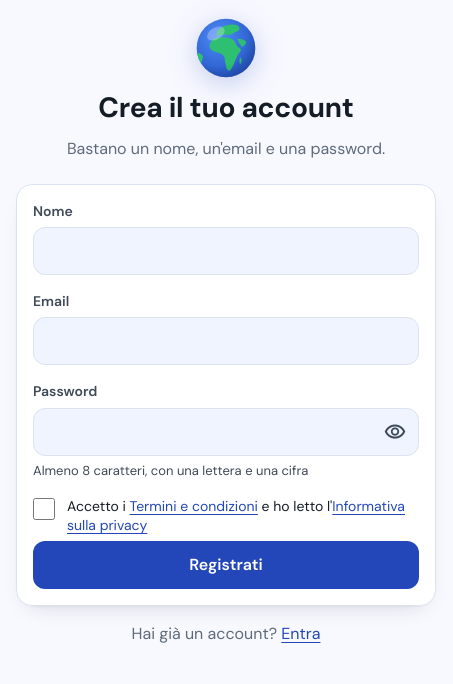
Test: senza la spunta non parte niente e il messaggio è legato alla casella (D-73)
Type "Ada" into the field labelled "Nome" at (226, 251), box [33,227,419,275]
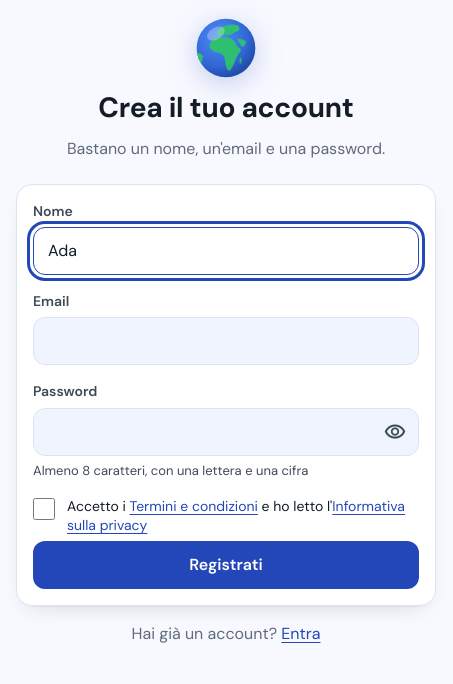
Type "ada@e.it" into the field labelled "Email" at (226, 341), box [33,317,419,365]
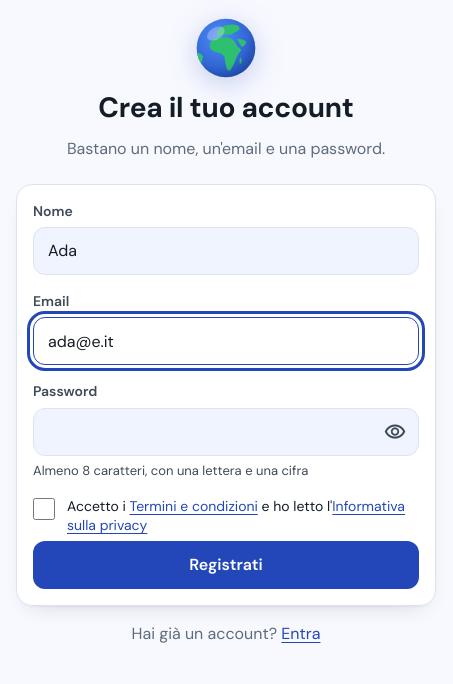
Type "password1" into the password field labelled "Password" at (226, 432), box [33,408,419,456]
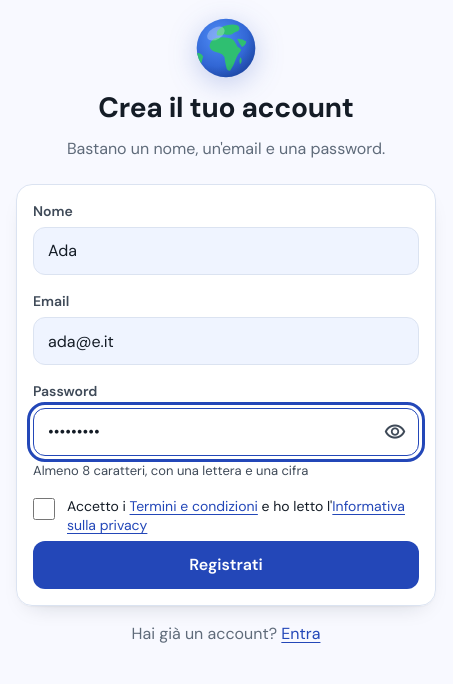
Click the button "Registrati" at (226, 564), box [33,540,419,588]
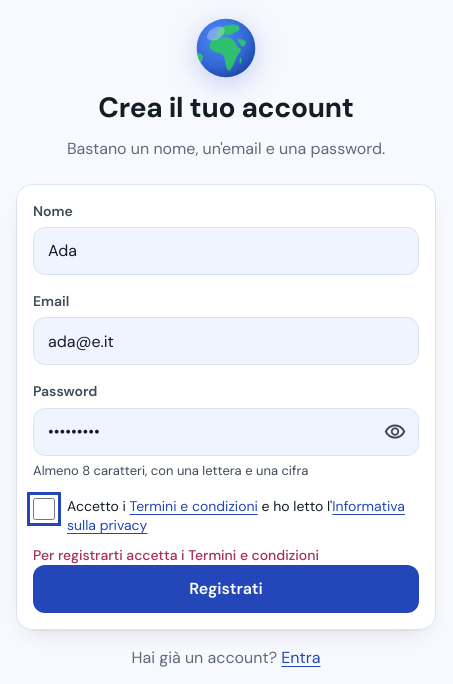
Expected: the text "Per registrarti accetta i Termini e condizioni" is shown, [33,546,319,564]
